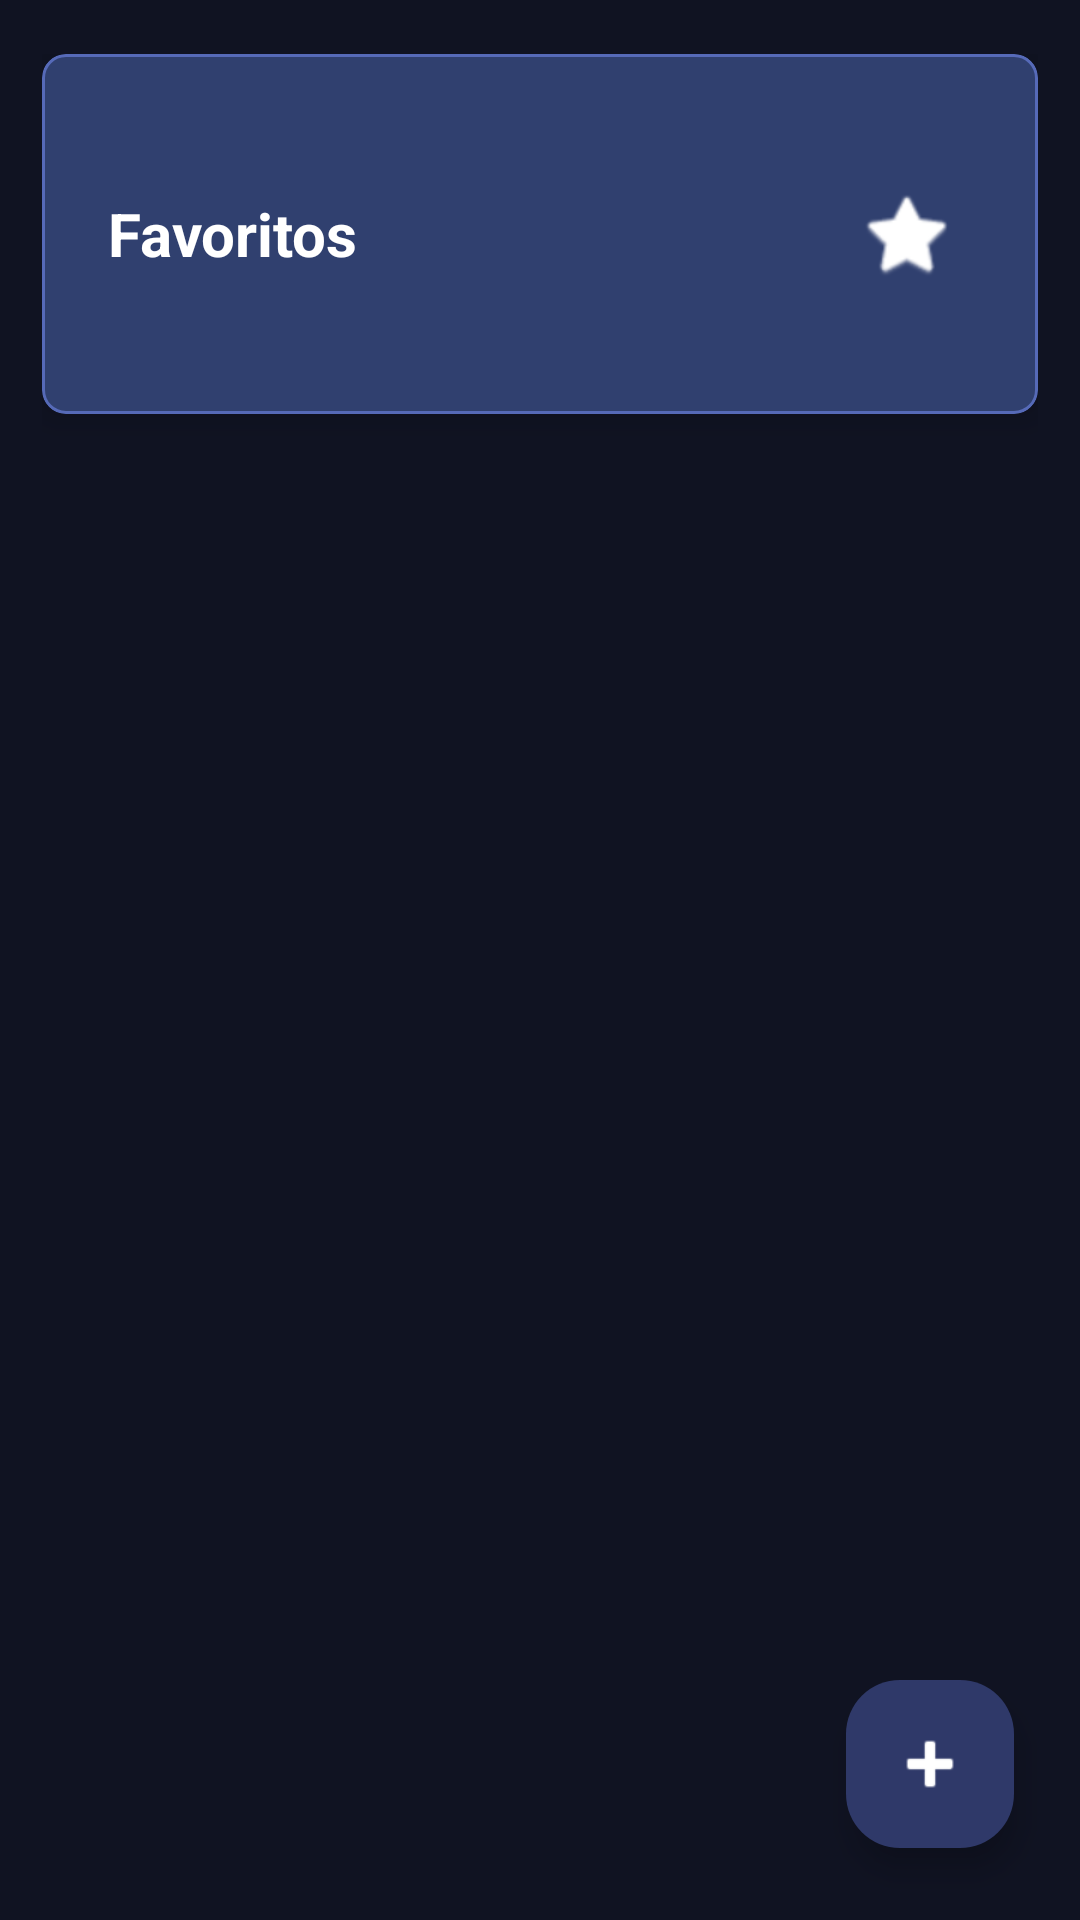

Point at icon controls on the screen. Image size 1080 × 1920, points as [x,y].
Crear lista: [930,1764]
star on: [907,235]
